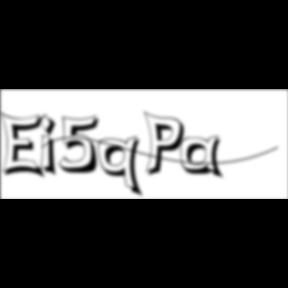5: (58, 114, 106, 176)
E: (0, 110, 50, 182)
P: (144, 110, 190, 180)
a: (180, 135, 228, 182)
i: (40, 112, 64, 180)
q: (98, 135, 148, 200)
